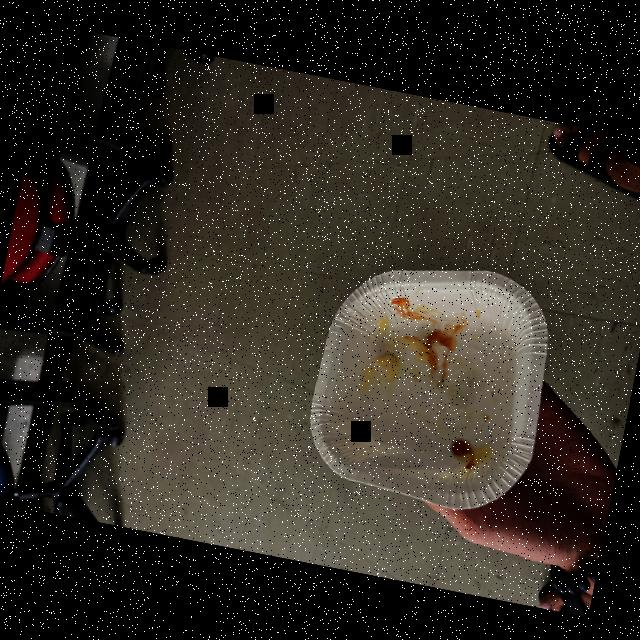cardboard_bowl: (292, 242, 564, 522)
